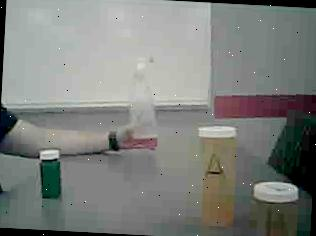Bottle A: (189, 118, 243, 236)
Bottle B: (245, 170, 304, 236)
Bottle C: (31, 147, 73, 205)
hazard: (118, 46, 180, 154)
